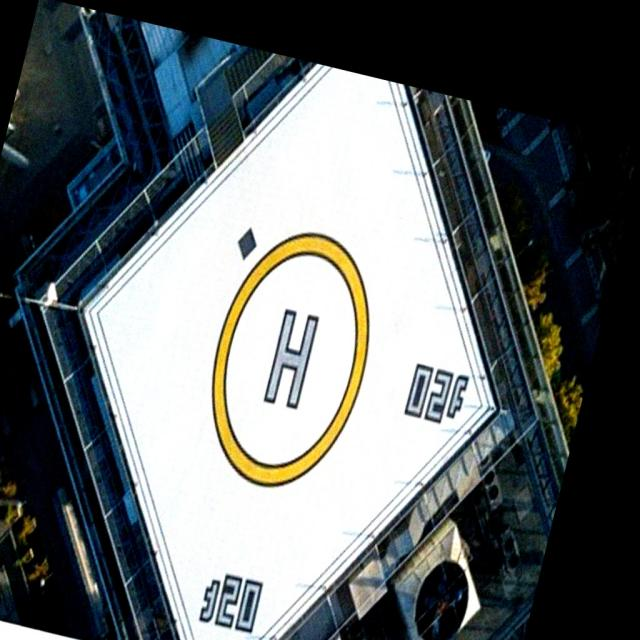helipad: (208, 228, 372, 490)
